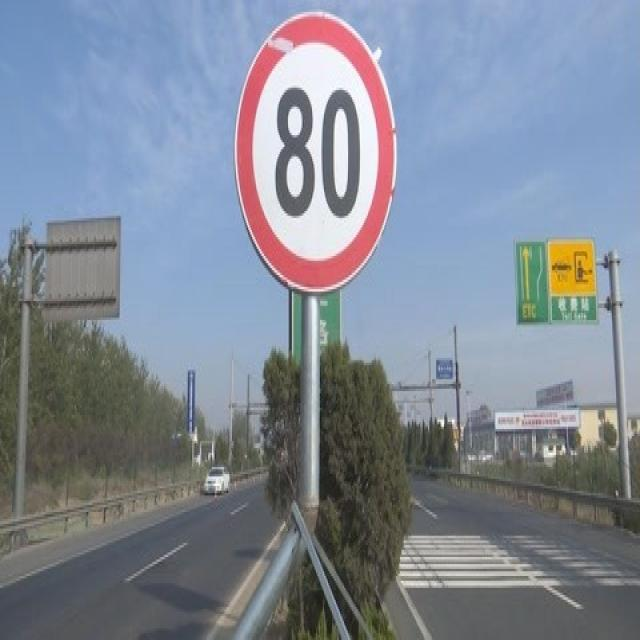speed limit 80: (233, 11, 396, 293)
